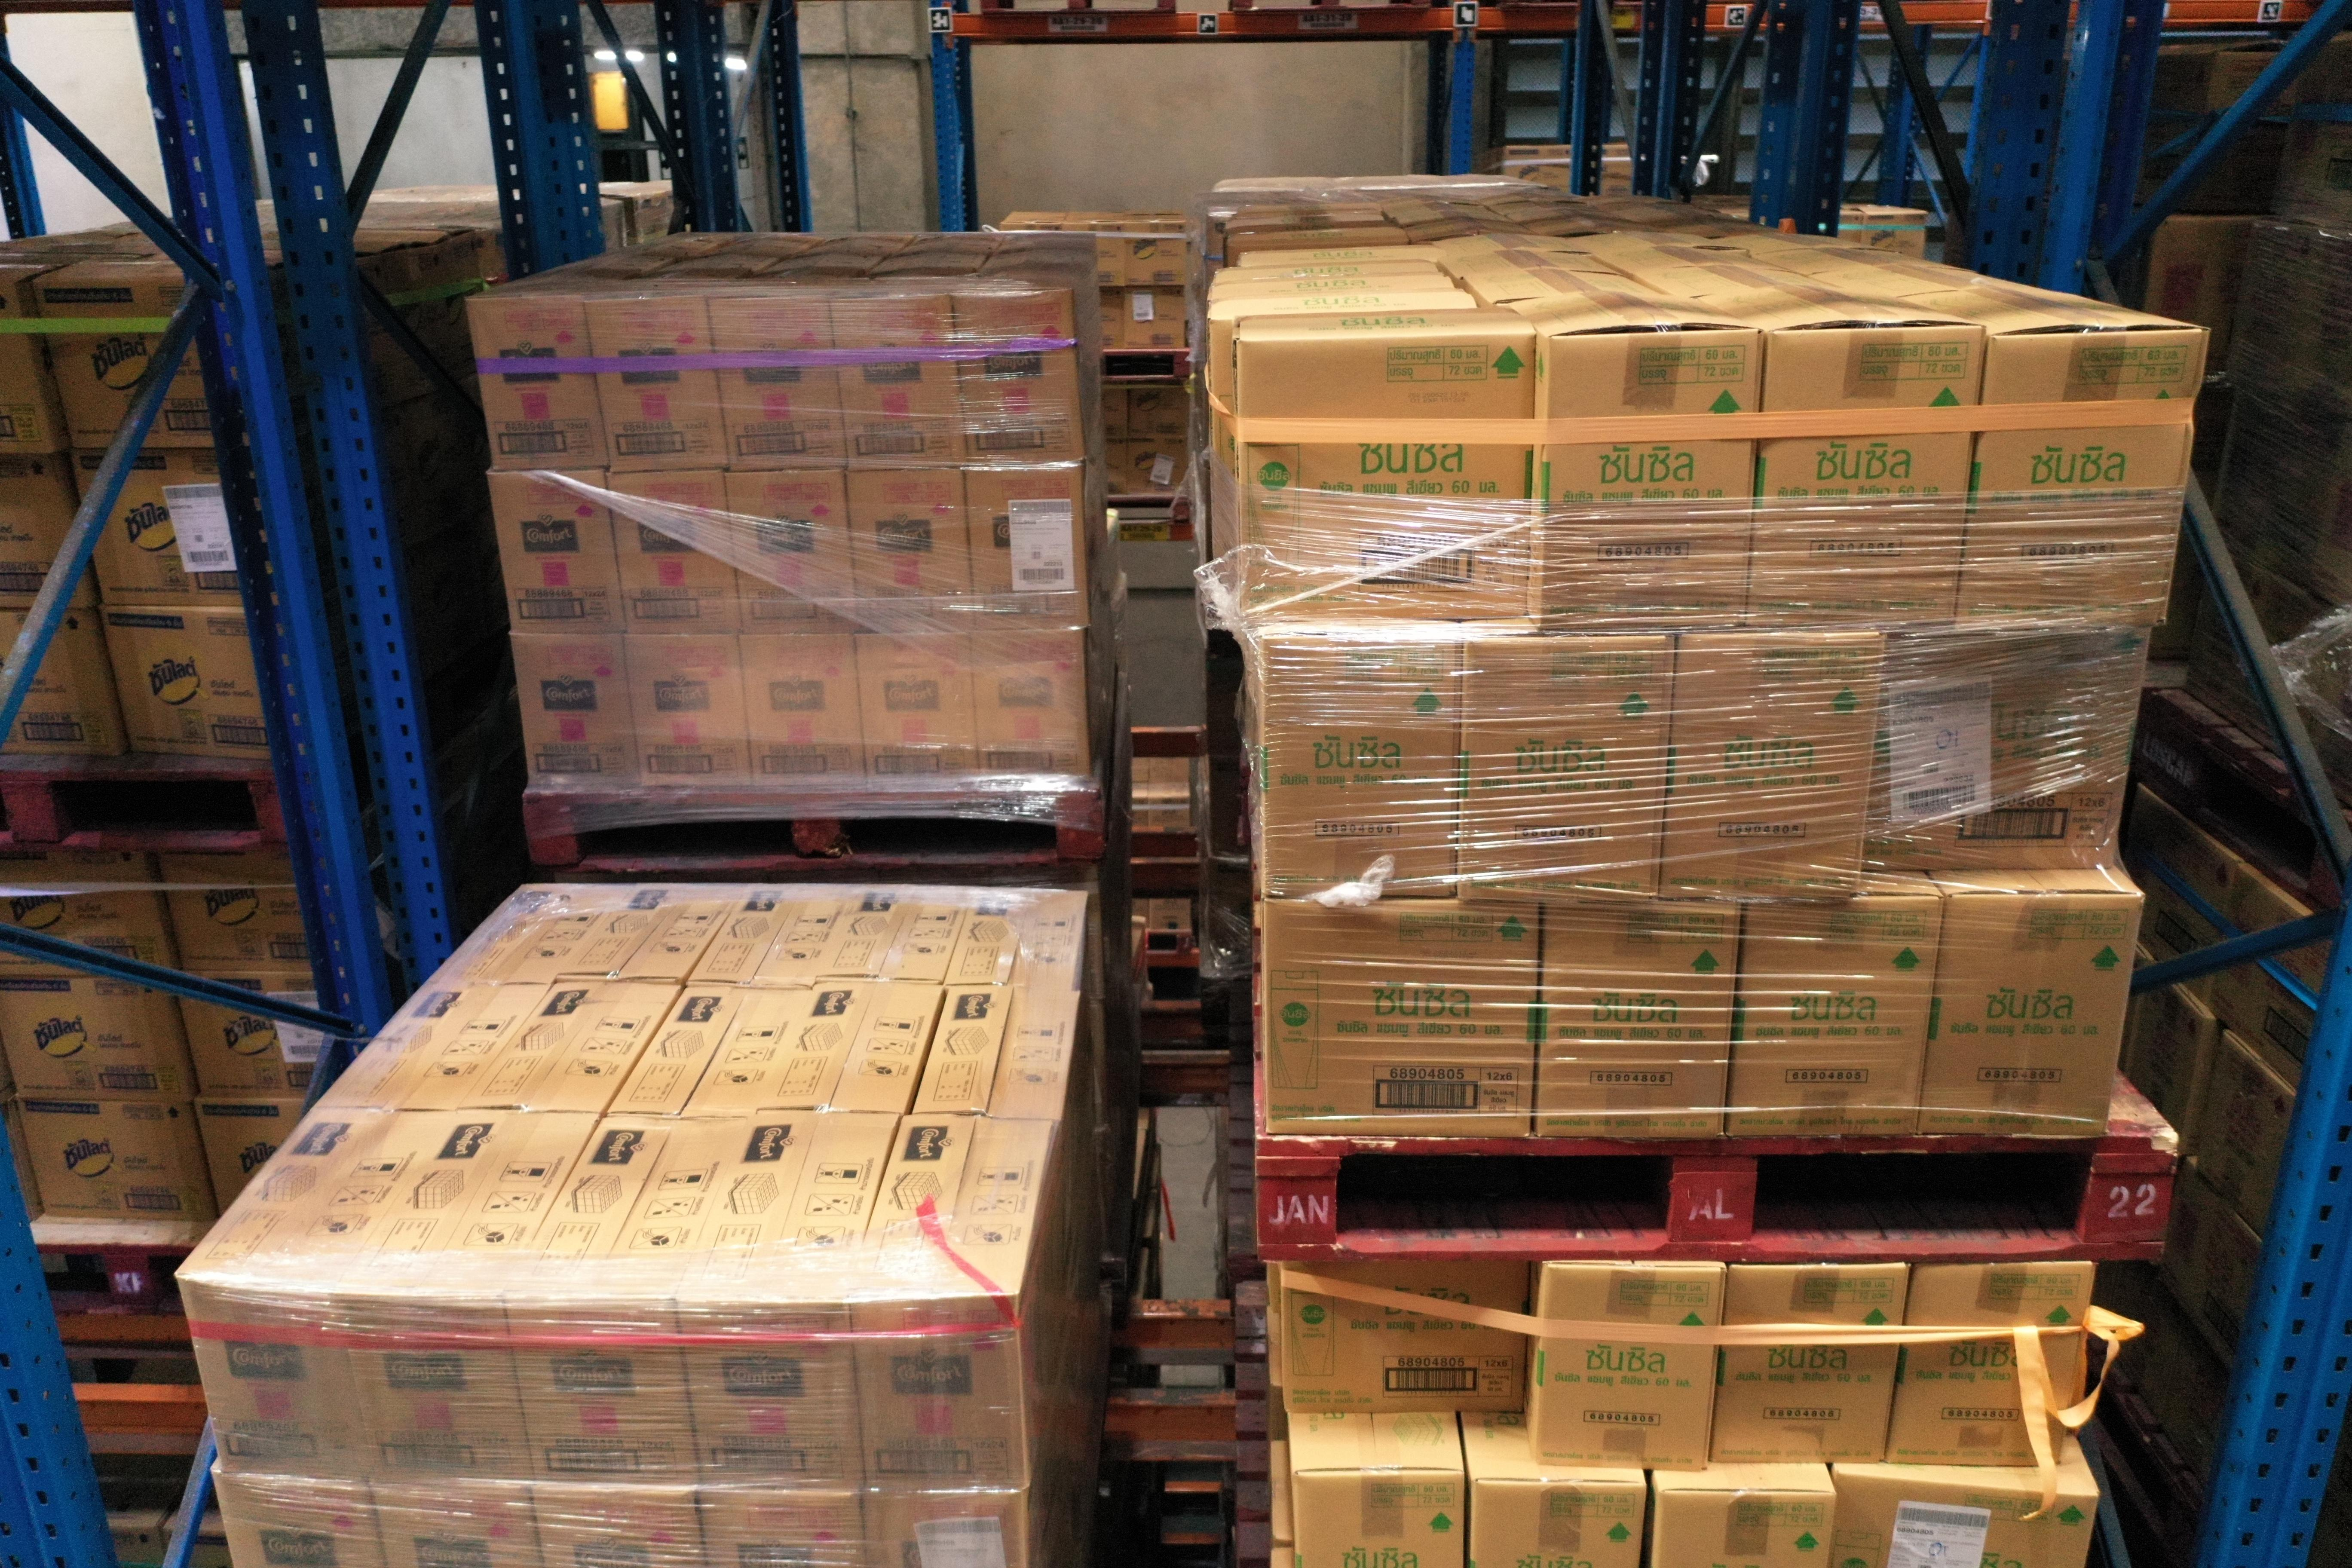-: (1235, 334, 1533, 625), (1745, 324, 1990, 635), (1958, 329, 2208, 632), (1865, 625, 2149, 870), (1263, 896, 1545, 1141), (1538, 327, 1760, 633), (1661, 630, 1885, 903), (1459, 635, 1675, 905), (1920, 891, 2145, 1139), (1263, 635, 1465, 903), (1731, 899, 1946, 1139), (1533, 905, 1741, 1141), (1886, 1260, 2096, 1475), (1710, 1263, 1911, 1466), (1536, 1263, 1727, 1475), (178, 1274, 371, 1482), (338, 1293, 535, 1489), (1283, 1258, 1531, 1414), (507, 1302, 703, 1493), (677, 1302, 864, 1493), (845, 1298, 1027, 1493), (1829, 1473, 2103, 1568), (210, 1472, 388, 1568), (1295, 1468, 1466, 1566), (1468, 1475, 1648, 1568), (1650, 1487, 1841, 1568), (369, 1486, 546, 1568), (535, 1486, 707, 1568), (698, 1487, 870, 1568), (861, 1491, 1027, 1568)
box: (31, 282, 219, 448), (70, 446, 245, 611), (96, 605, 275, 759), (465, 294, 612, 474), (12, 1094, 220, 1218), (586, 296, 730, 472), (0, 976, 196, 1102), (710, 294, 845, 472), (833, 296, 968, 472), (955, 294, 1085, 467), (492, 471, 626, 637), (845, 467, 975, 639), (605, 471, 740, 635), (962, 465, 1090, 635), (0, 852, 177, 975), (726, 471, 856, 635), (514, 632, 644, 794), (625, 632, 756, 789), (738, 630, 864, 793), (150, 849, 311, 975), (857, 637, 987, 789), (173, 973, 325, 1102), (975, 630, 1090, 789), (0, 611, 122, 758), (192, 1101, 311, 1218), (0, 458, 86, 614), (2, 276, 58, 453)
